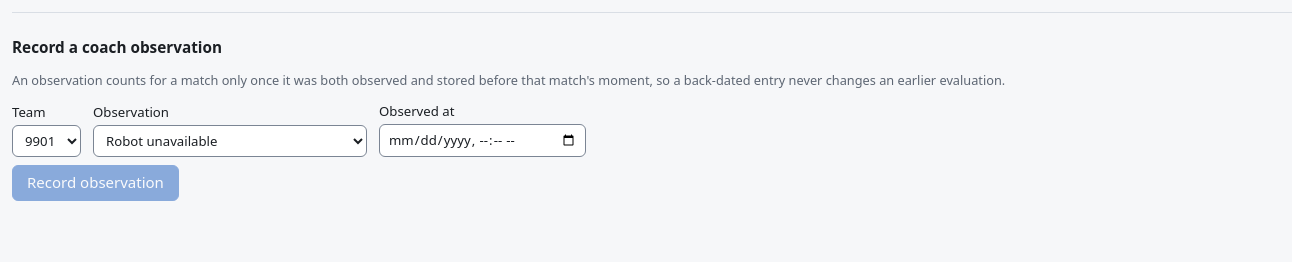
RecordObservation › sends the phase only for a mechanism observation
Select "Mechanism unavailable for one phase" in the dropdown labelled "Observation" at point(230, 141), box [93, 125, 367, 157]
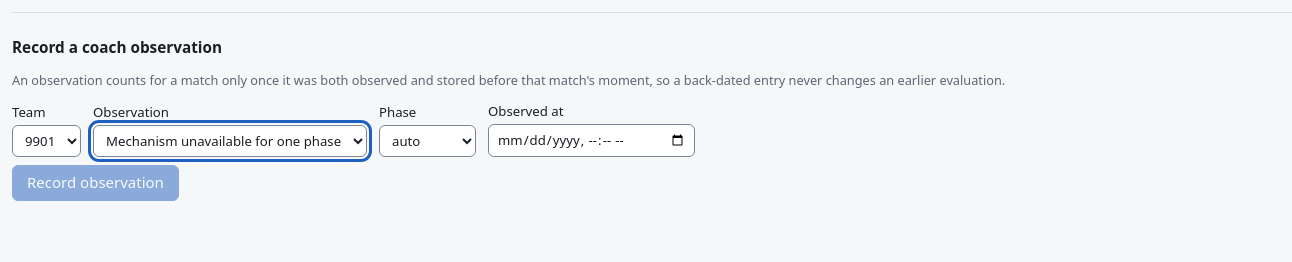
Select "teleop" in the dropdown labelled "Phase" at point(428, 141), box [379, 125, 476, 157]
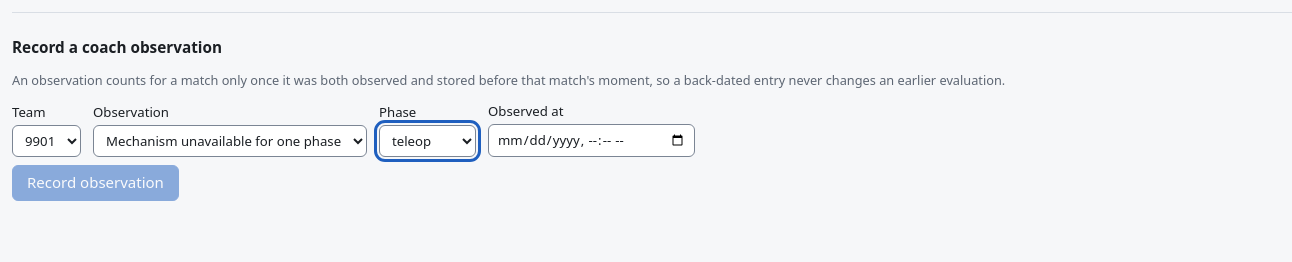
Type "2099-03-01T09:30" into the field labelled "Observed at" at point(592, 141), box [488, 124, 695, 157]
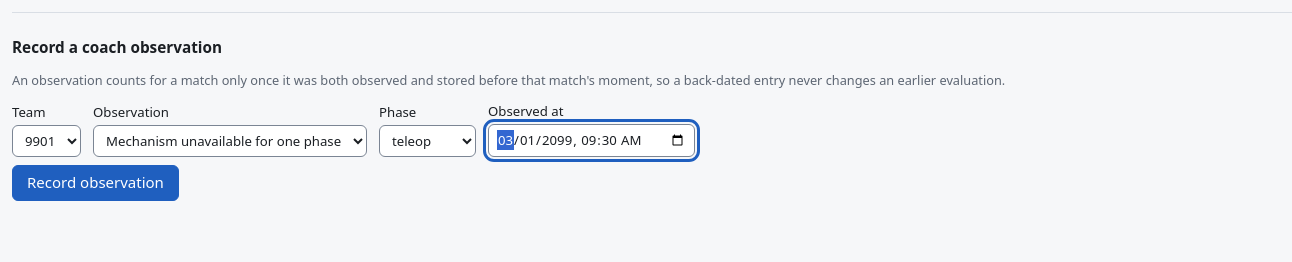
Click the button "Record observation" at point(95, 183), box [12, 165, 179, 201]
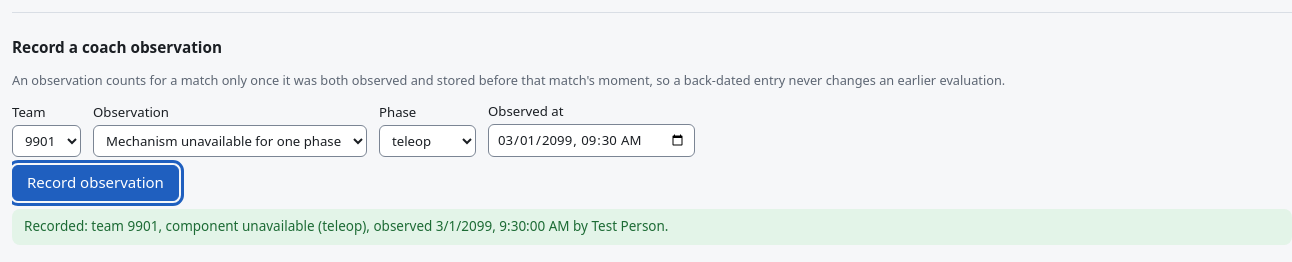
Check: the text "(teleop)" is shown, box [315, 217, 366, 235]
